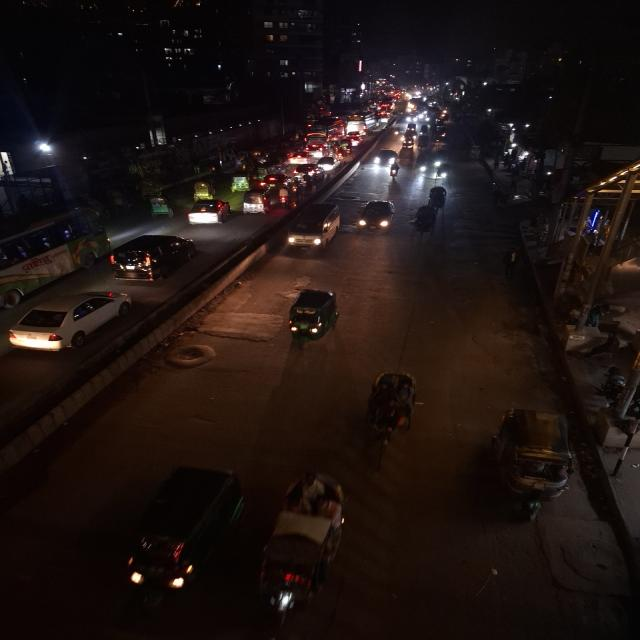bus: (8, 208, 116, 281), (304, 123, 346, 140)
car: (8, 283, 136, 354), (114, 224, 194, 284), (288, 203, 344, 256), (350, 198, 401, 232), (185, 196, 230, 229), (374, 148, 401, 166), (289, 150, 314, 166), (318, 155, 339, 172), (306, 144, 326, 158)
cng: (98, 468, 244, 600), (480, 402, 594, 537), (270, 285, 356, 348), (238, 188, 270, 215), (229, 171, 249, 196), (250, 165, 272, 179), (399, 135, 416, 149)
motorcycle: (276, 186, 293, 206), (290, 179, 306, 200), (300, 172, 312, 192), (389, 161, 401, 180), (390, 126, 401, 140)
pedestrian: (501, 246, 522, 283)
pickup_van: (268, 152, 290, 172)
rickshaw: (266, 446, 346, 611), (358, 360, 432, 459), (141, 189, 174, 220), (425, 181, 453, 213), (416, 206, 436, 245), (188, 179, 214, 201), (413, 154, 433, 176), (436, 162, 455, 182), (417, 135, 430, 151)
